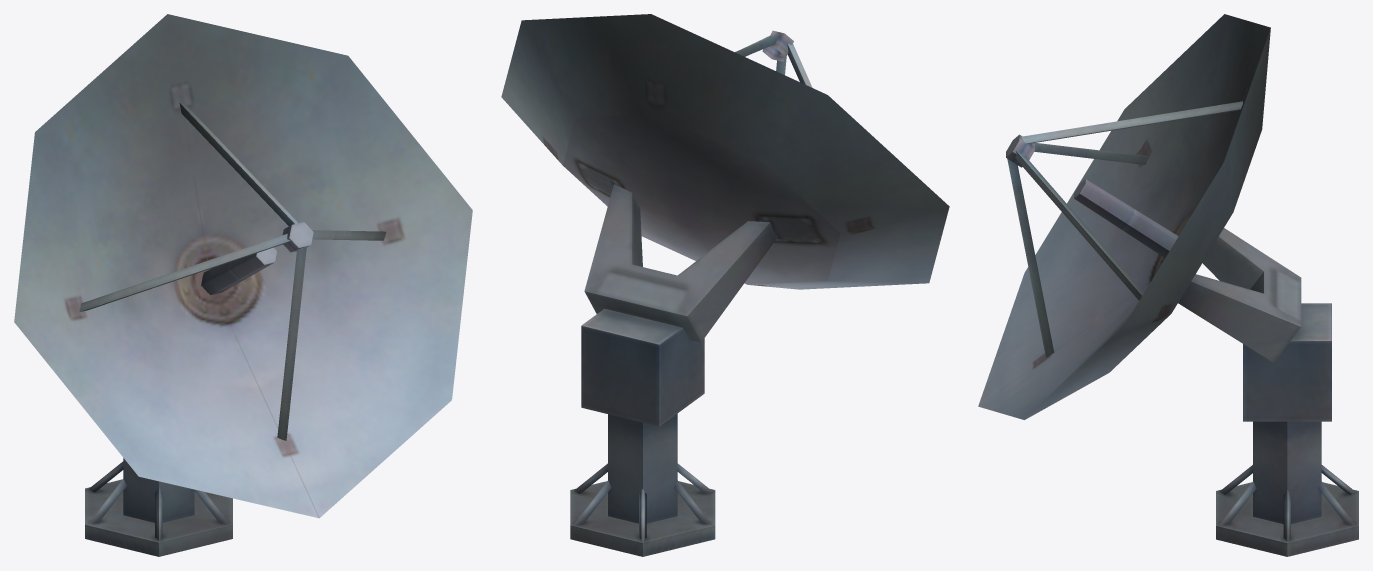
File: obj_leida.FBX
3 views of the same model, side by side, from view 1: azimuth 30°, elevation 25°; view 2: azimuth 150°, elevation 25°; view 3: azimuth 270°, elevation 25° (orthographic). The views are drawn at different scales.
Visible parts, largest first — view 1: obj_leida; view 2: obj_leida; view 3: obj_leida.
Part boxes in pixels (x1,y1,x2,y2): obj_leida: (14, 14, 472, 556); obj_leida: (501, 14, 949, 556); obj_leida: (978, 14, 1358, 556).
Size of the model in its own units: 74.12 by 55.28 by 79.22.
